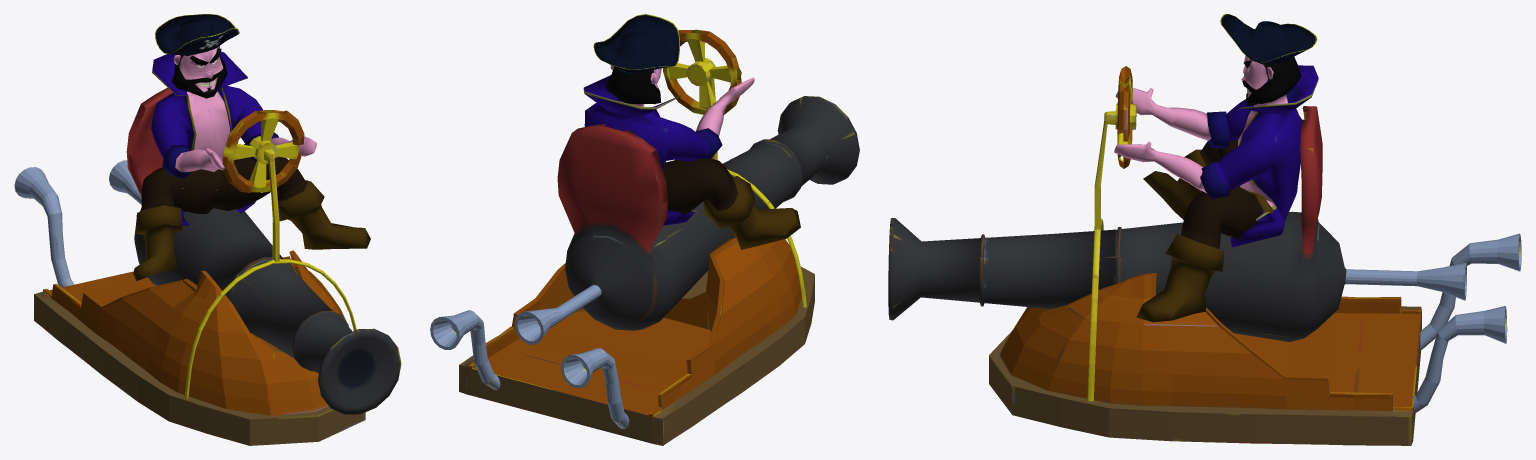
The model's file is pirataGiroDER_000270.obj.
The picture shows the model from 3 angles, left to right: view 1: azimuth 30°, elevation 25°; view 2: azimuth 150°, elevation 25°; view 3: azimuth 270°, elevation 25°; orthographic projection. The views are drawn at different scales.
Visible parts, largest first — view 1: carro_pirata, Pirata_PirataH; view 2: carro_pirata, Pirata_PirataH; view 3: carro_pirata, Pirata_PirataH.
Part boxes in pixels (<box>): carro_pirata: <box>14,87,401,445</box>; Pirata_PirataH: <box>133,14,370,280</box>; carro_pirata: <box>430,29,859,445</box>; Pirata_PirataH: <box>583,14,800,249</box>; carro_pirata: <box>888,66,1521,445</box>; Pirata_PirataH: <box>1114,14,1318,322</box>.
Bounding box in the file's own units: 5.66 × 7.72 × 12.1.
2 materials, 2 textured.
